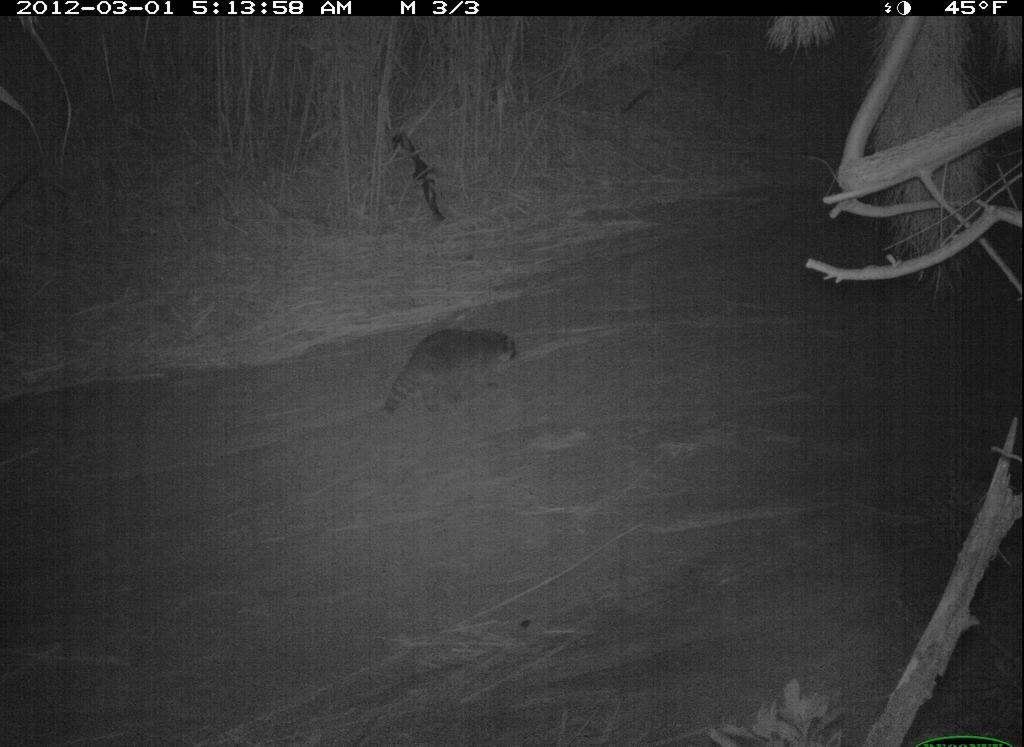raccoon: (379, 321, 524, 428)
